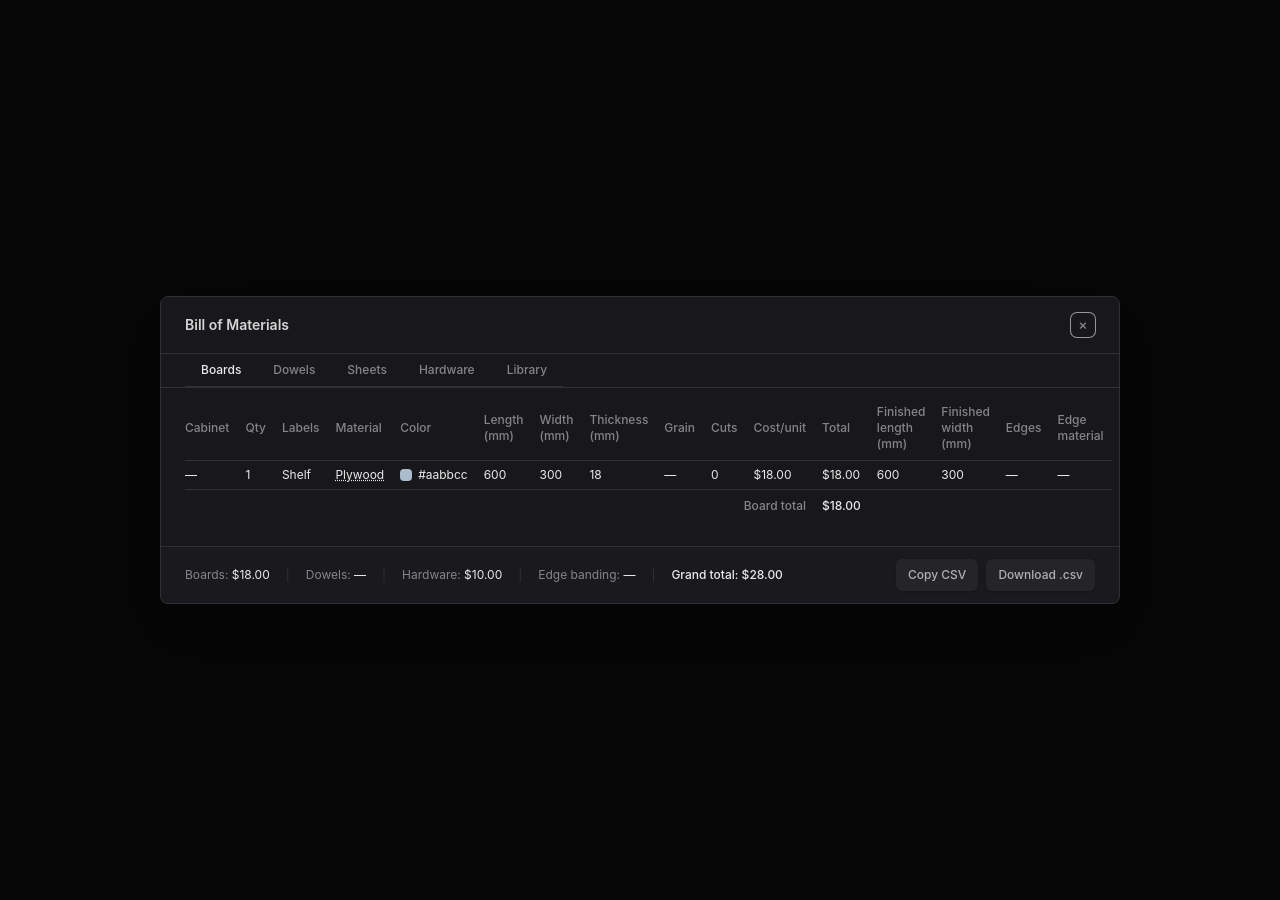
Test: BomModal › Library tab renders entries from library prop sorted alphabetically
Click the tab "Library". click: (527, 371)
box: [491,354,563,388]
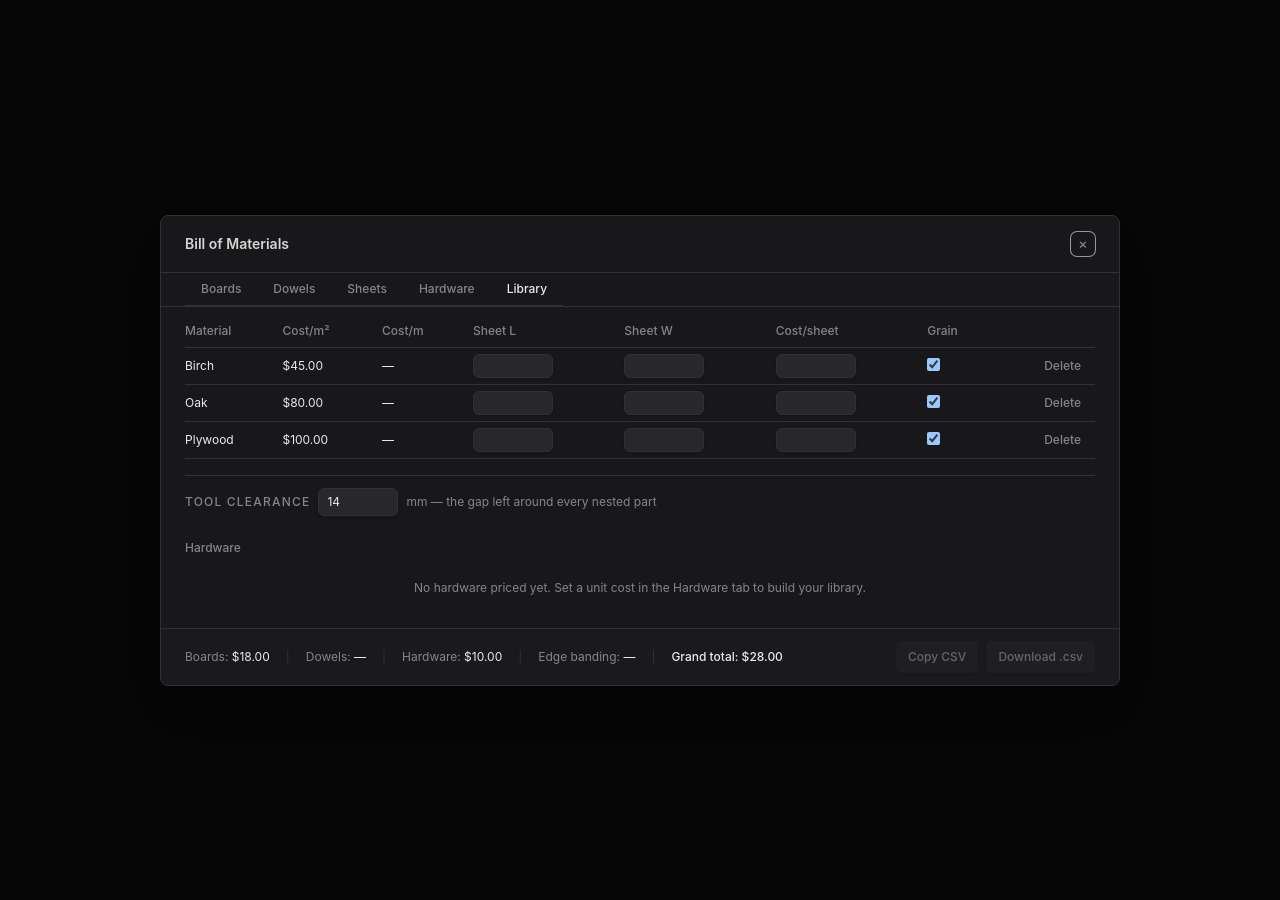
Check: the cell "Plywood" is shown, box [185,421,274,458]
Check: the cell "Birch" is shown, box [185,347,274,384]
Check: the cell "Oak" is shown, box [185,384,274,421]
